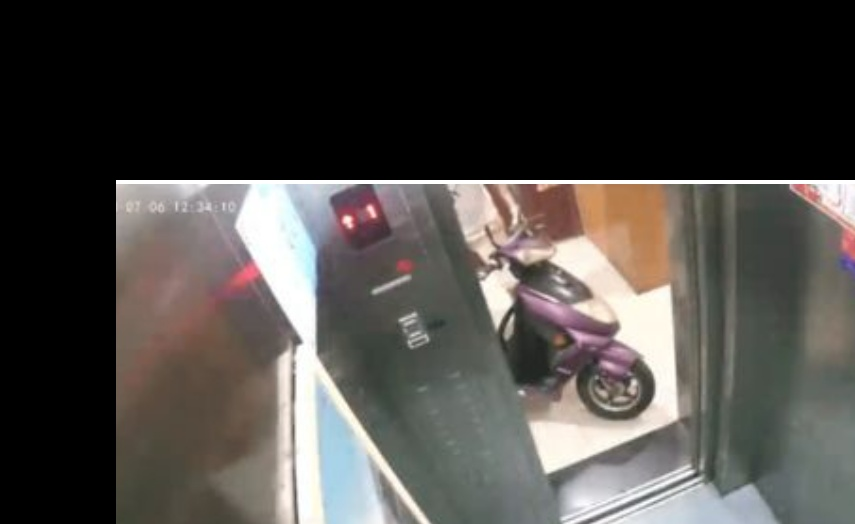ebike: (457, 222, 660, 424)
